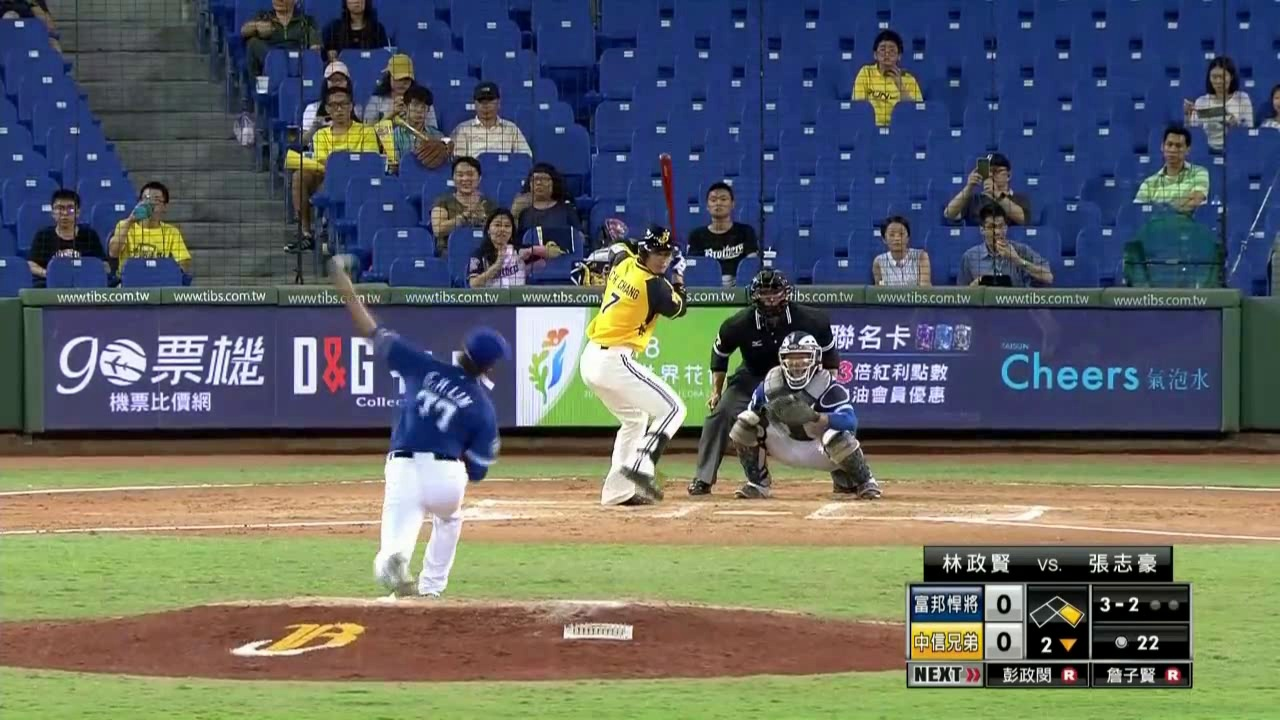ball: (330, 250, 350, 269)
base: (1028, 592, 1086, 629)
bat: (656, 149, 680, 261)
out: (1146, 587, 1186, 619)
score1: (987, 588, 1019, 618)
score2: (986, 627, 1022, 657)
session: (1028, 630, 1092, 662)
strikeball: (1092, 588, 1143, 621)
total: (1095, 628, 1186, 655)
